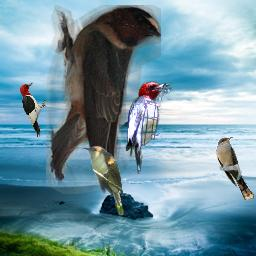Cuckoo: (81, 145, 126, 218), (216, 137, 254, 200)
Swallow: (46, 5, 161, 194)
Woodpecker: (126, 81, 174, 174), (19, 82, 47, 137)
